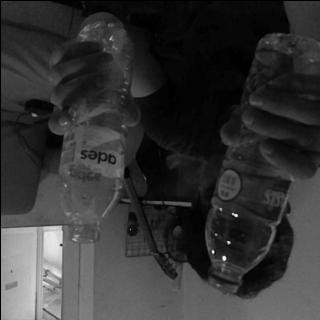plastic_bottles: (206, 31, 320, 296), (54, 18, 138, 241)
